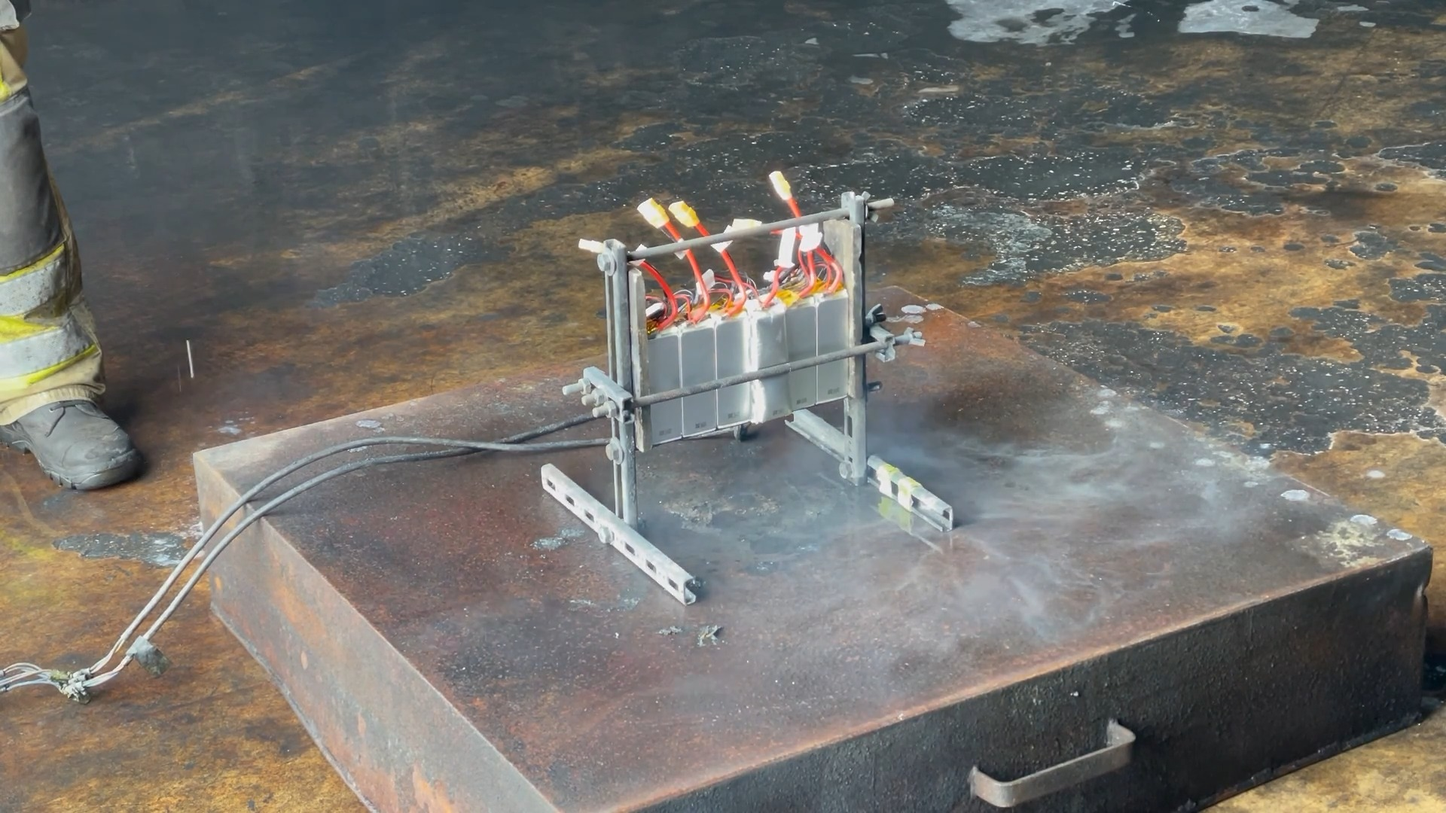smoke: (703, 361, 1221, 690)
